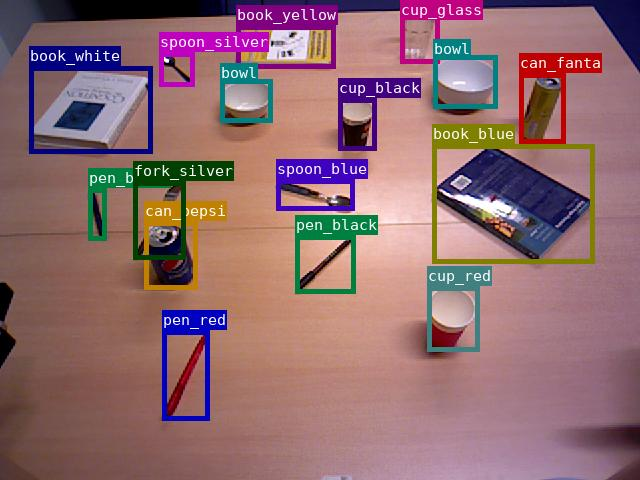book_blue: (432, 144, 594, 263)
book_white: (29, 66, 152, 153)
book_yellow: (236, 25, 335, 68)
bowl: (433, 55, 497, 108), (220, 79, 272, 122)
can_fanta: (519, 73, 565, 143)
can_pepsi: (144, 221, 197, 289)
cup_black: (338, 98, 376, 150)
cup_glass: (400, 0, 439, 63)
cup_red: (427, 286, 479, 351)
fork_silver: (133, 181, 185, 259)
pen_black: (295, 235, 355, 293), (88, 188, 106, 240)
pen_red: (162, 330, 209, 420)
spoon_blue: (276, 179, 354, 210)
spoon_silver: (159, 52, 194, 86)
